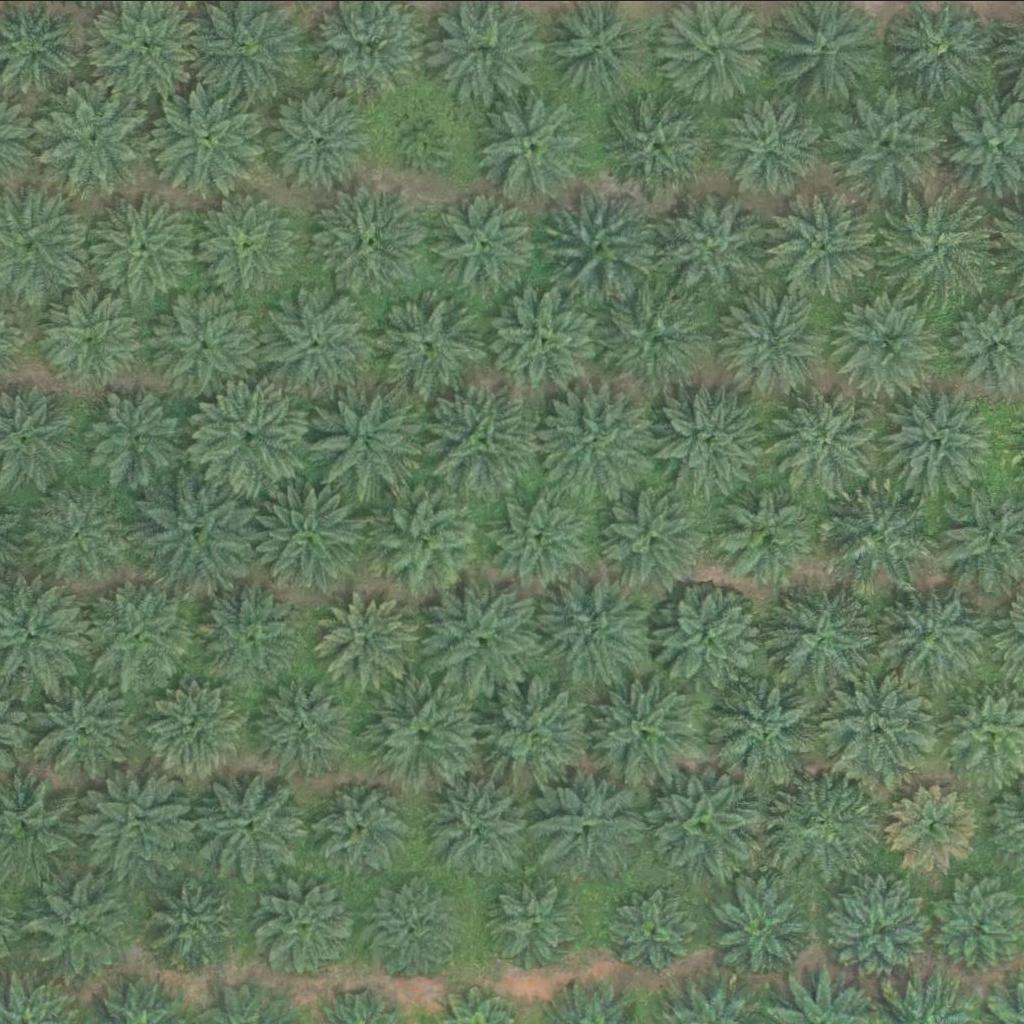Kelapa_Sawit: (151, 80, 265, 193), (367, 485, 481, 598), (425, 380, 539, 493), (543, 380, 657, 493), (599, 281, 713, 394), (714, 280, 828, 393), (42, 77, 155, 190), (194, 378, 307, 491), (306, 381, 419, 494), (24, 477, 137, 590), (143, 472, 256, 585), (255, 479, 368, 592), (79, 770, 192, 883), (195, 770, 308, 883), (307, 772, 420, 885), (420, 771, 533, 884), (533, 765, 646, 878), (647, 765, 760, 878), (588, 675, 701, 788), (714, 673, 827, 786), (824, 670, 937, 783), (656, 384, 769, 497), (774, 377, 887, 490), (833, 284, 946, 397), (477, 88, 590, 201), (599, 91, 712, 204), (877, 578, 990, 691), (89, 185, 203, 297), (489, 280, 603, 392), (654, 188, 768, 300), (771, 189, 885, 301), (832, 86, 946, 198), (315, 183, 428, 295), (152, 284, 265, 396), (262, 280, 375, 392), (83, 575, 196, 687), (196, 577, 309, 689), (25, 673, 138, 785), (769, 765, 882, 877), (366, 680, 479, 792), (482, 677, 595, 789), (426, 578, 539, 690), (538, 572, 651, 684), (650, 578, 763, 690), (763, 583, 876, 695), (593, 479, 706, 591), (823, 482, 936, 594), (371, 286, 484, 398), (547, 188, 660, 300), (880, 194, 993, 306), (877, 385, 990, 497), (315, 586, 416, 686), (147, 678, 248, 778), (253, 673, 354, 773), (30, 878, 131, 978), (143, 876, 244, 976), (489, 872, 590, 972), (712, 879, 813, 979), (716, 482, 817, 582), (436, 190, 537, 290), (268, 85, 368, 185), (199, 192, 299, 292), (45, 286, 145, 386), (89, 383, 189, 483), (259, 875, 359, 975), (363, 875, 463, 975), (828, 879, 928, 979), (494, 487, 594, 587), (719, 95, 819, 195), (608, 887, 696, 975), (889, 783, 977, 871), (393, 102, 456, 164)
